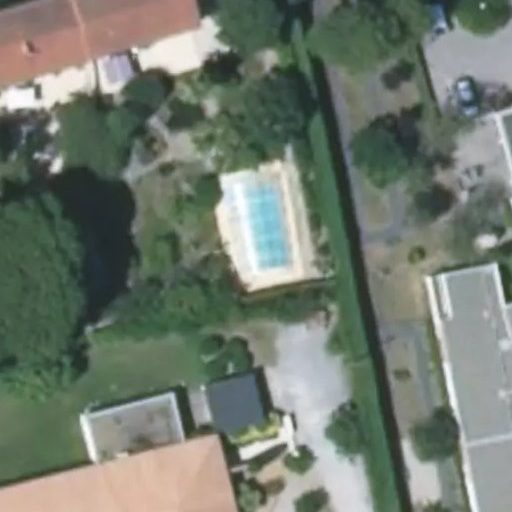pool: (228, 167, 303, 281)
